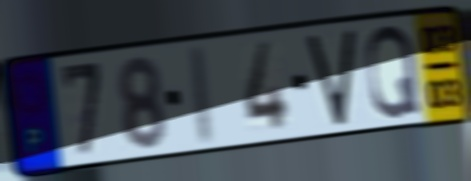4: (242, 39, 293, 135)
7: (58, 59, 105, 160)
8: (115, 53, 169, 152)
I: (190, 42, 218, 149)
Q: (364, 22, 423, 122)
V: (304, 25, 357, 129)
